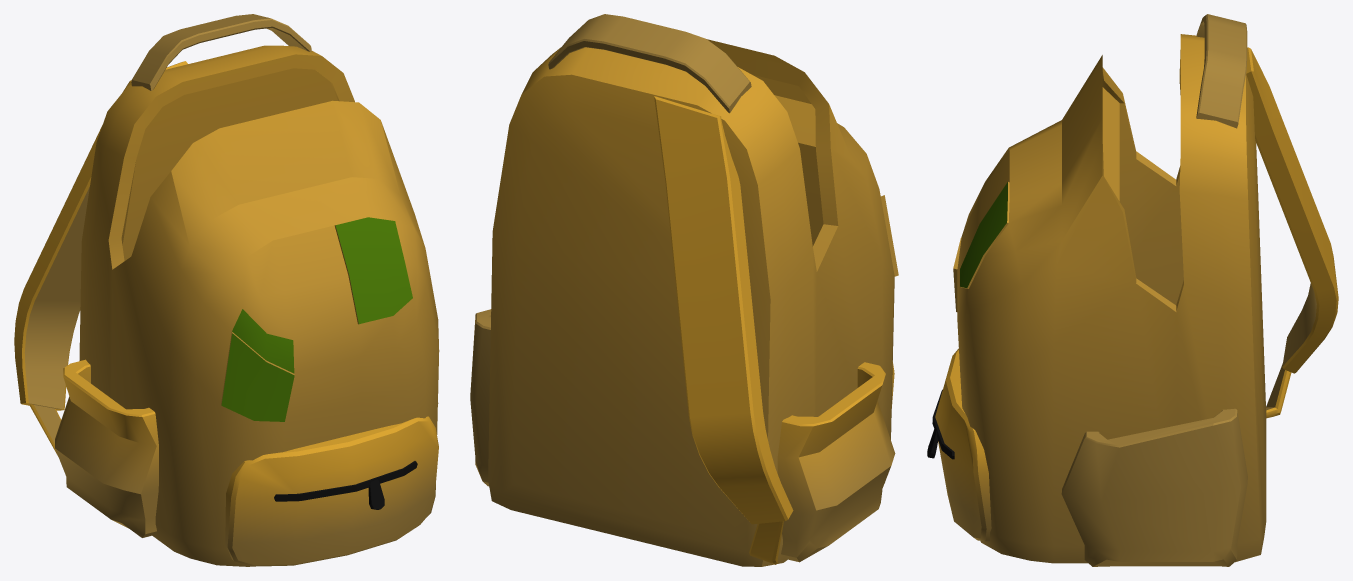
Rendered from SM_BackPack_22.fbx.
The picture shows the model from 3 angles, left to right: view 1: azimuth 30°, elevation 25°; view 2: azimuth 150°, elevation 25°; view 3: azimuth 270°, elevation 25°; orthographic projection. The views are drawn at different scales.
Visible parts, largest first — view 1: SM_BackPack_22; view 2: SM_BackPack_22; view 3: SM_BackPack_22.
Part boxes in pixels (x1,y1,x2,y2): SM_BackPack_22: [14, 14, 439, 566]; SM_BackPack_22: [470, 14, 898, 566]; SM_BackPack_22: [927, 14, 1338, 566].
Size of the model in its own units: 96.54 by 127 by 101.
